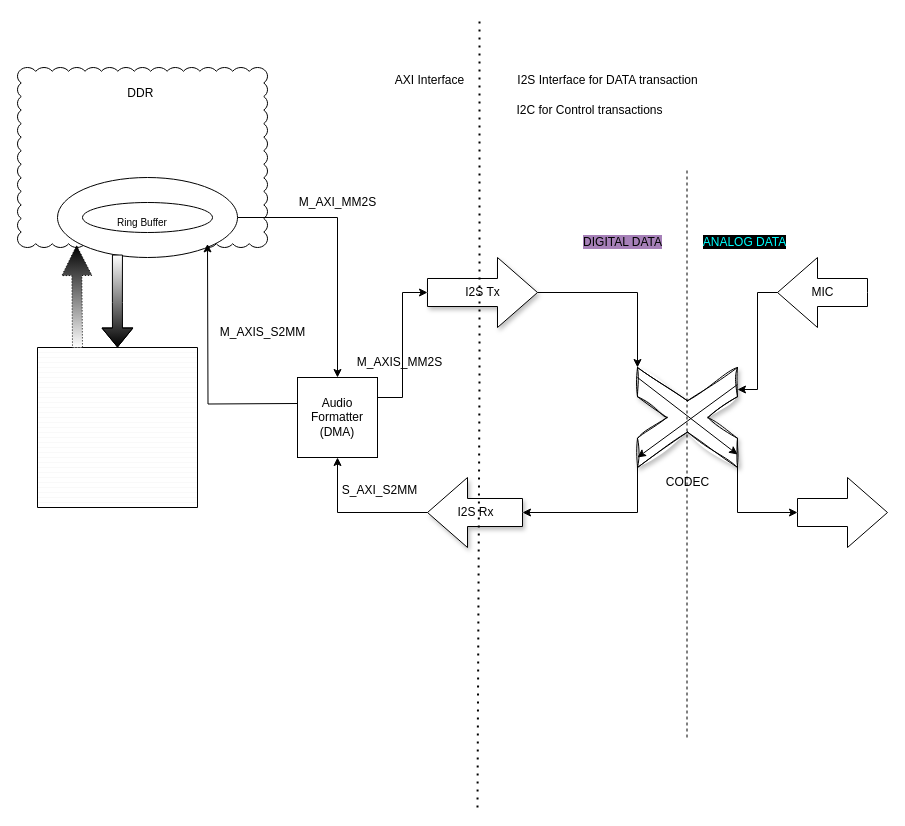
Image size: 905x826. Some labels were removed from this diagram. Here are the shapes that lost their labels. From the top down, the centre of each, then its label:
At [117,427]: "CPU".
At [842,512]: "SPEAKER".
